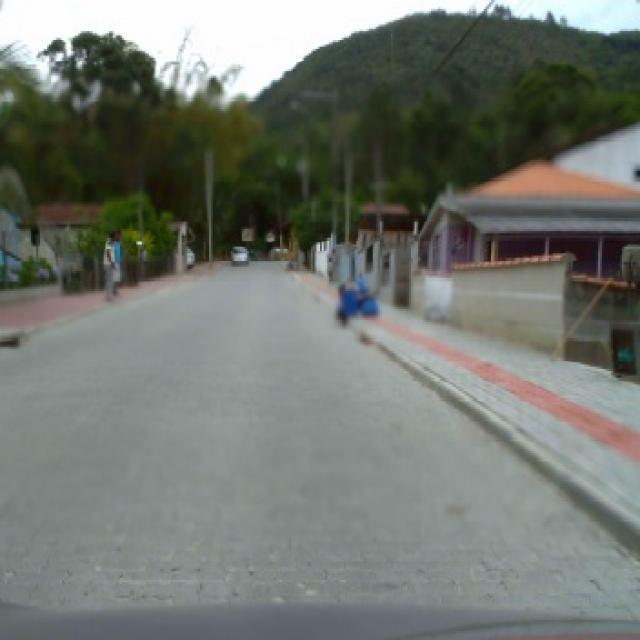Poth-hole: (0, 331, 22, 349), (356, 332, 371, 344)
